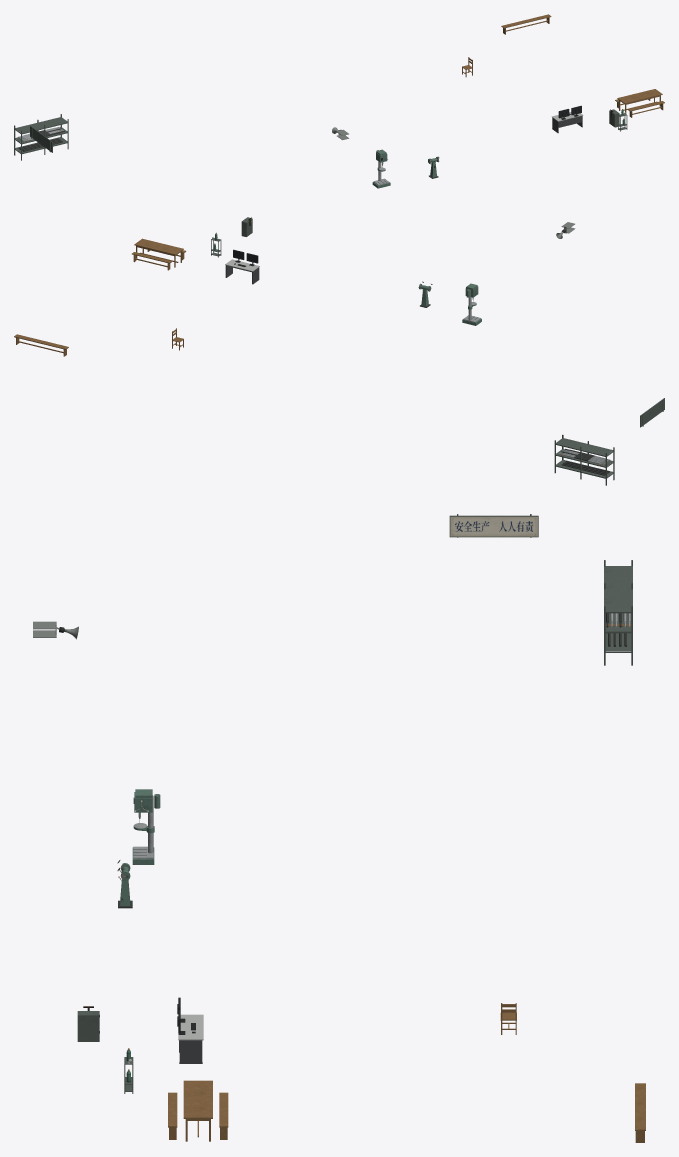
File: LSB_ENV_PRP_Misc_v01.fbx
3 renders of one model, top to bottom at view 1: azimuth 30°, elevation 25°; view 2: azimuth 150°, elevation 25°; view 3: azimuth 270°, elevation 25°, orthographic. The views are drawn at different scales.
Parts seen in each view (by area): view 1: WorkRack, RestTable, MES_Desk, Drill, LockerBench; view 2: WorkRack, RestTable, Drill, MES_Desk; view 3: WorkRack, Slogan, RestTable, Drill, MES_Desk, RestBenches.
Boxes of the visible parts, <box> form: WorkRack: <box>14,114,68,160</box>; RestTable: <box>617,89,662,113</box>; MES_Desk: <box>551,112,583,133</box>; Drill: <box>372,149,390,188</box>; LockerBench: <box>501,14,551,34</box>; WorkRack: <box>554,434,614,485</box>; RestTable: <box>134,238,183,267</box>; Drill: <box>462,283,481,325</box>; MES_Desk: <box>225,259,259,284</box>; WorkRack: <box>604,560,632,665</box>; Slogan: <box>449,514,538,537</box>; RestTable: <box>183,1080,212,1141</box>; Drill: <box>132,789,160,864</box>; MES_Desk: <box>178,1014,203,1063</box>; RestBenches: <box>168,1092,228,1139</box>.
Bounding box in the file's own units: 34.5 × 5.23 × 16.77.
